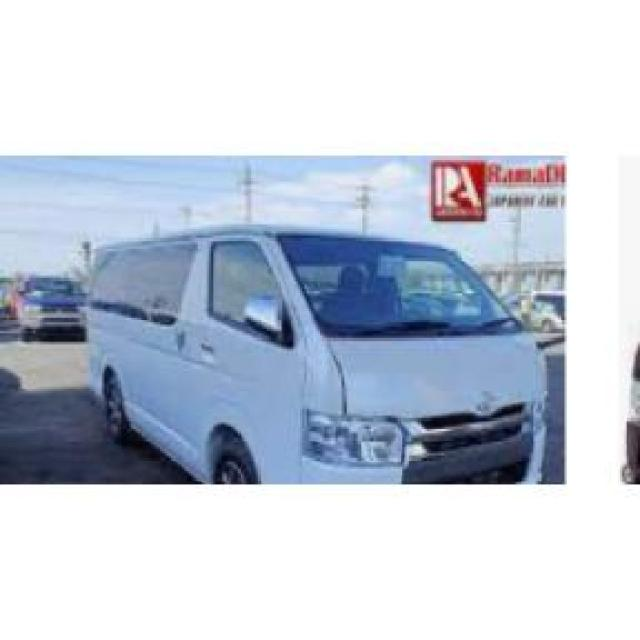Van: (78, 219, 545, 486)
